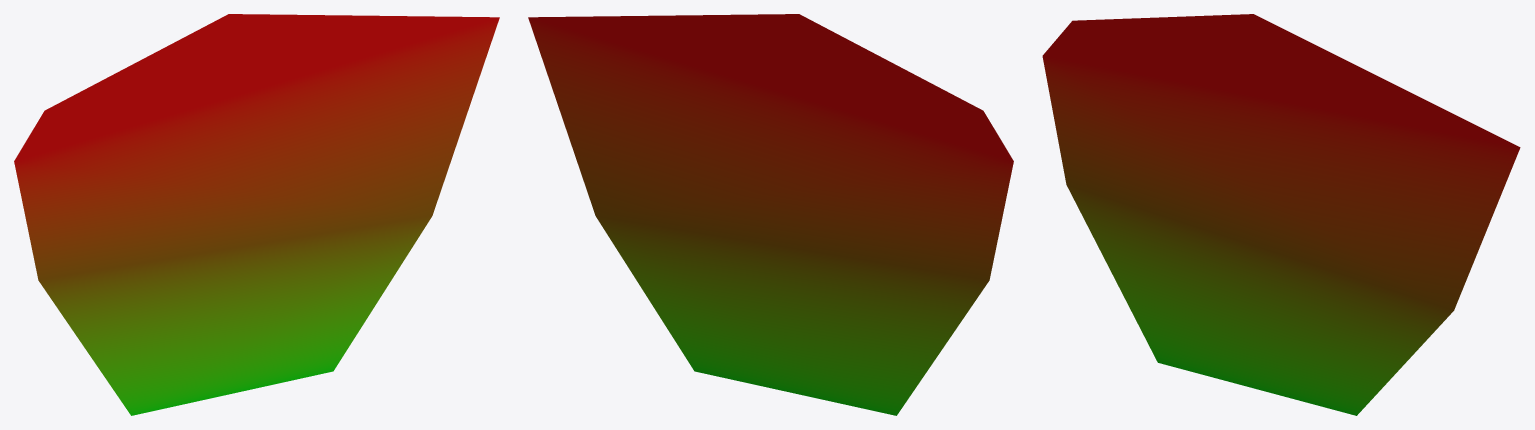
File: Var7_LOD4.fbx
The picture shows the model from 3 angles, left to right: view 1: azimuth 30°, elevation 25°; view 2: azimuth 150°, elevation 25°; view 3: azimuth 330°, elevation 25°; orthographic projection.
Visible parts, largest first — view 1: _p1fx_Var7_LOD4; view 2: _p1fx_Var7_LOD4; view 3: _p1fx_Var7_LOD4.
Boxes of the visible parts, box(x1,y1,x2,y2) form: _p1fx_Var7_LOD4: box(14, 14, 499, 415); _p1fx_Var7_LOD4: box(528, 14, 1013, 415); _p1fx_Var7_LOD4: box(1042, 14, 1520, 415).
Size of the model in its own units: 38.44 by 28.95 by 1.44e-06.
